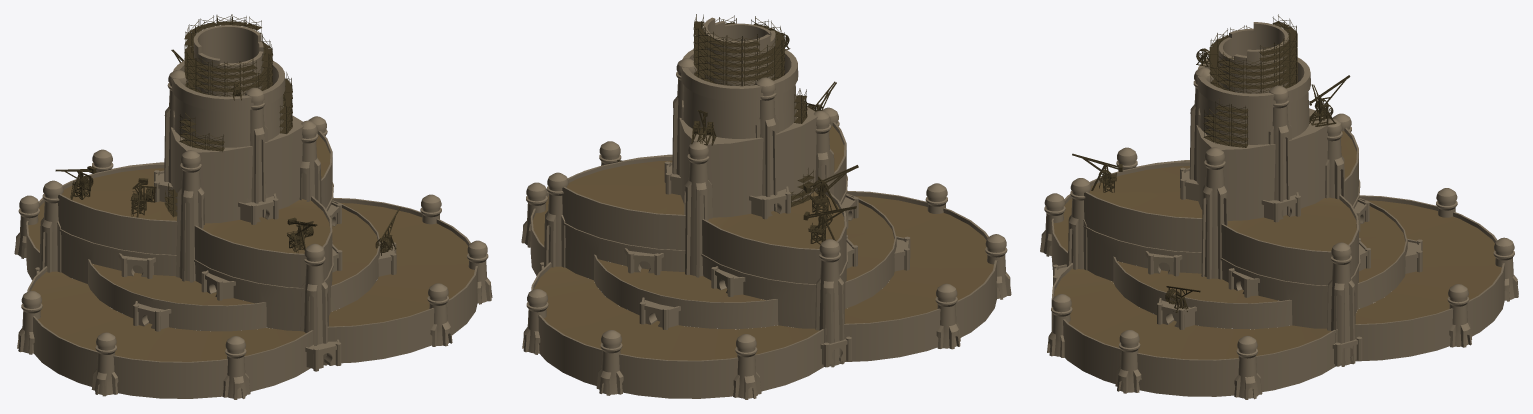
File: hyperstructure-half-transformed.glb
The picture shows the model from 3 angles, left to right: view 1: azimuth 30°, elevation 25°; view 2: azimuth 150°, elevation 25°; view 3: azimuth 270°, elevation 25°; orthographic projection. The views are drawn at different scales.
Visible parts, largest first — view 1: tower_half-finished, tower_half-finished_scaffolds; view 2: tower_half-finished, tower_half-finished_scaffolds; view 3: tower_half-finished, tower_half-finished_scaffolds.
Part boxes in pixels (left/top/right/bottom): tower_half-finished: left=14, top=25, right=492, bottom=399; tower_half-finished_scaffolds: left=55, top=14, right=400, bottom=255; tower_half-finished: left=521, top=17, right=1011, bottom=399; tower_half-finished_scaffolds: left=617, top=14, right=858, bottom=244; tower_half-finished: left=1040, top=22, right=1518, bottom=399; tower_half-finished_scaffolds: left=1072, top=14, right=1350, bottom=312.
Bounding box in the file's own units: 3.18 × 1.91 × 3.11.
